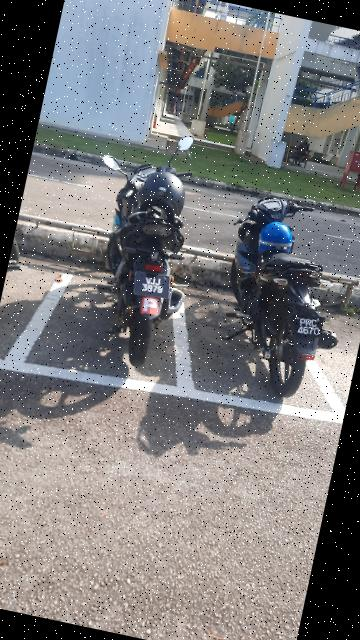License_Plate: (127, 269, 180, 305), (287, 311, 338, 346)
motorcycle: (59, 114, 223, 382), (205, 184, 360, 409)
